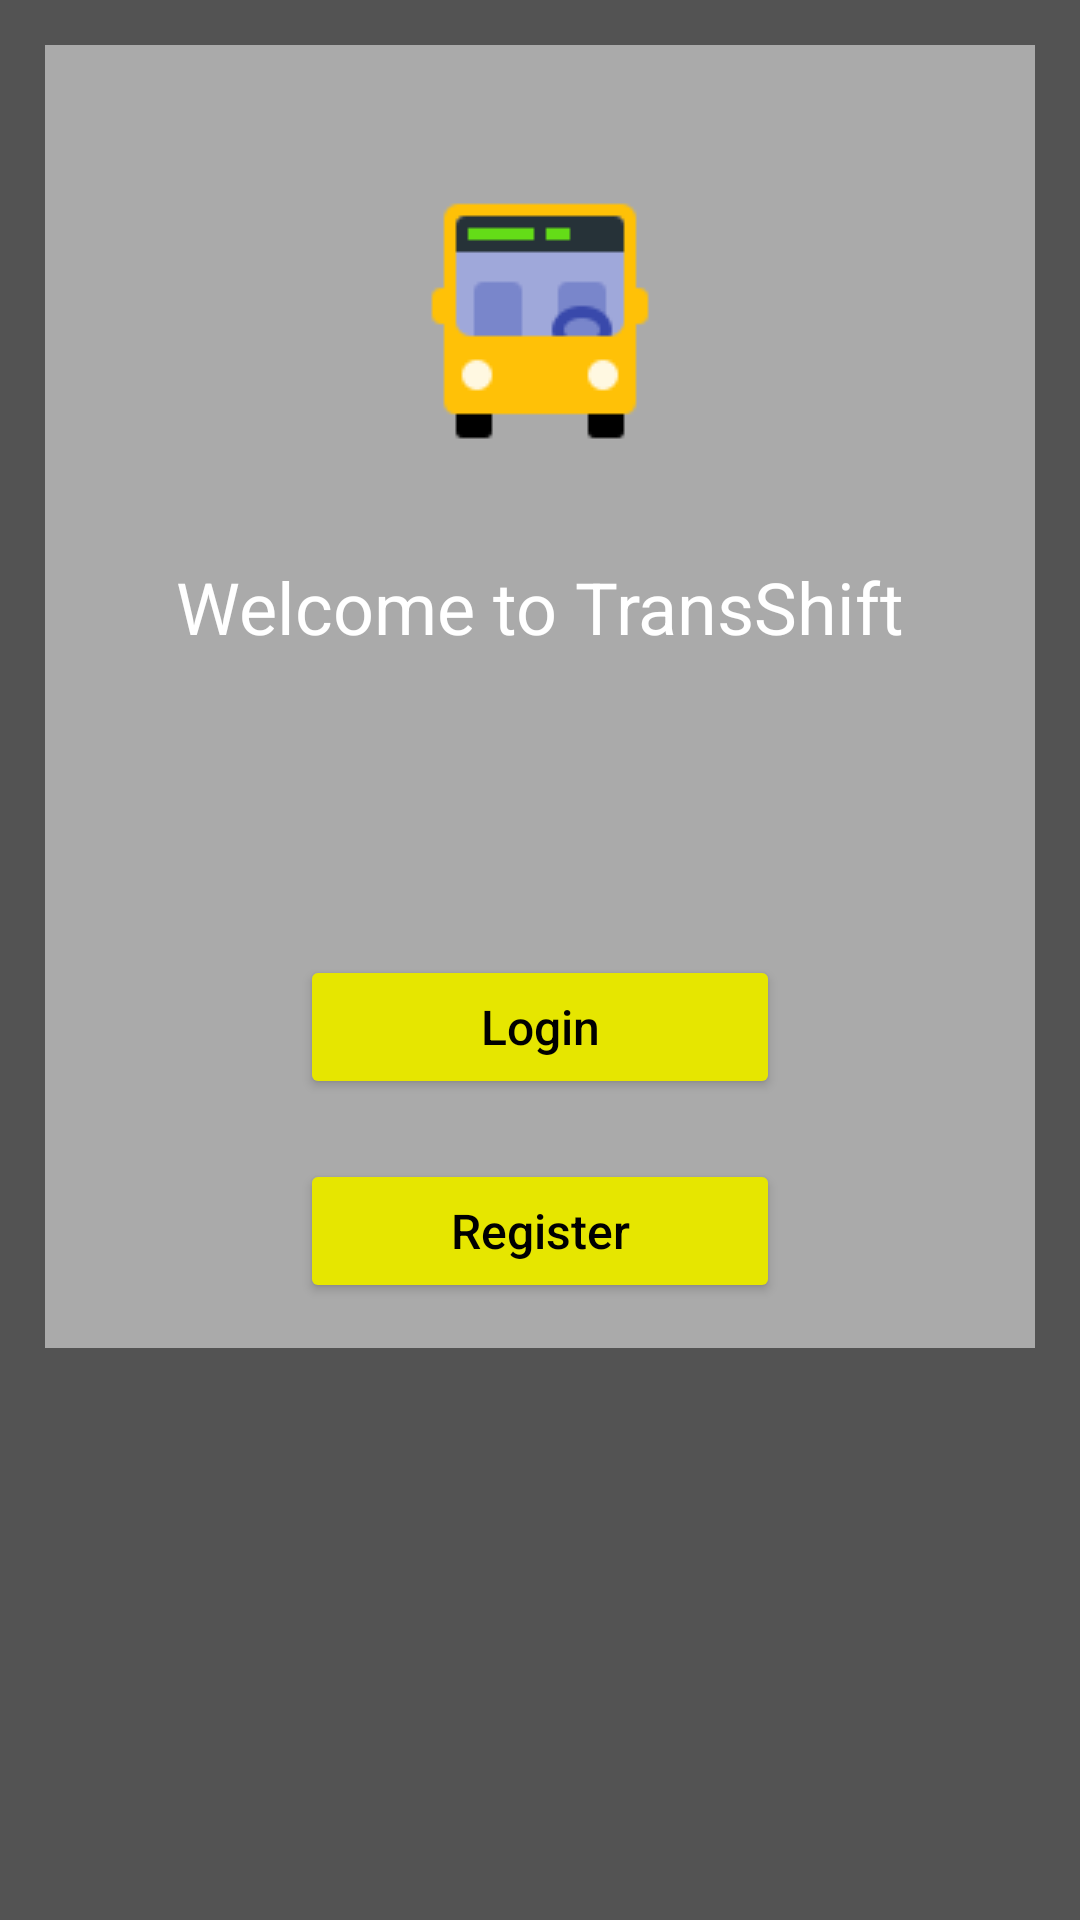

Icons on this 1080px×1920px Android screen, each with the point to tap as [x,y]:
bus: [540,321]
